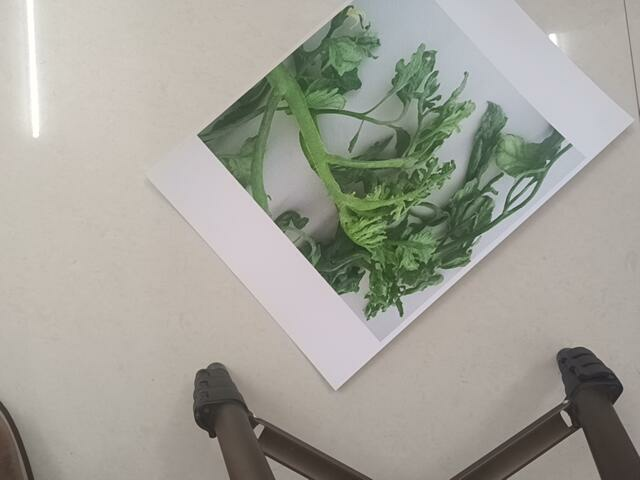Tomamto_Mosaic_virus: (236, 23, 519, 317)
